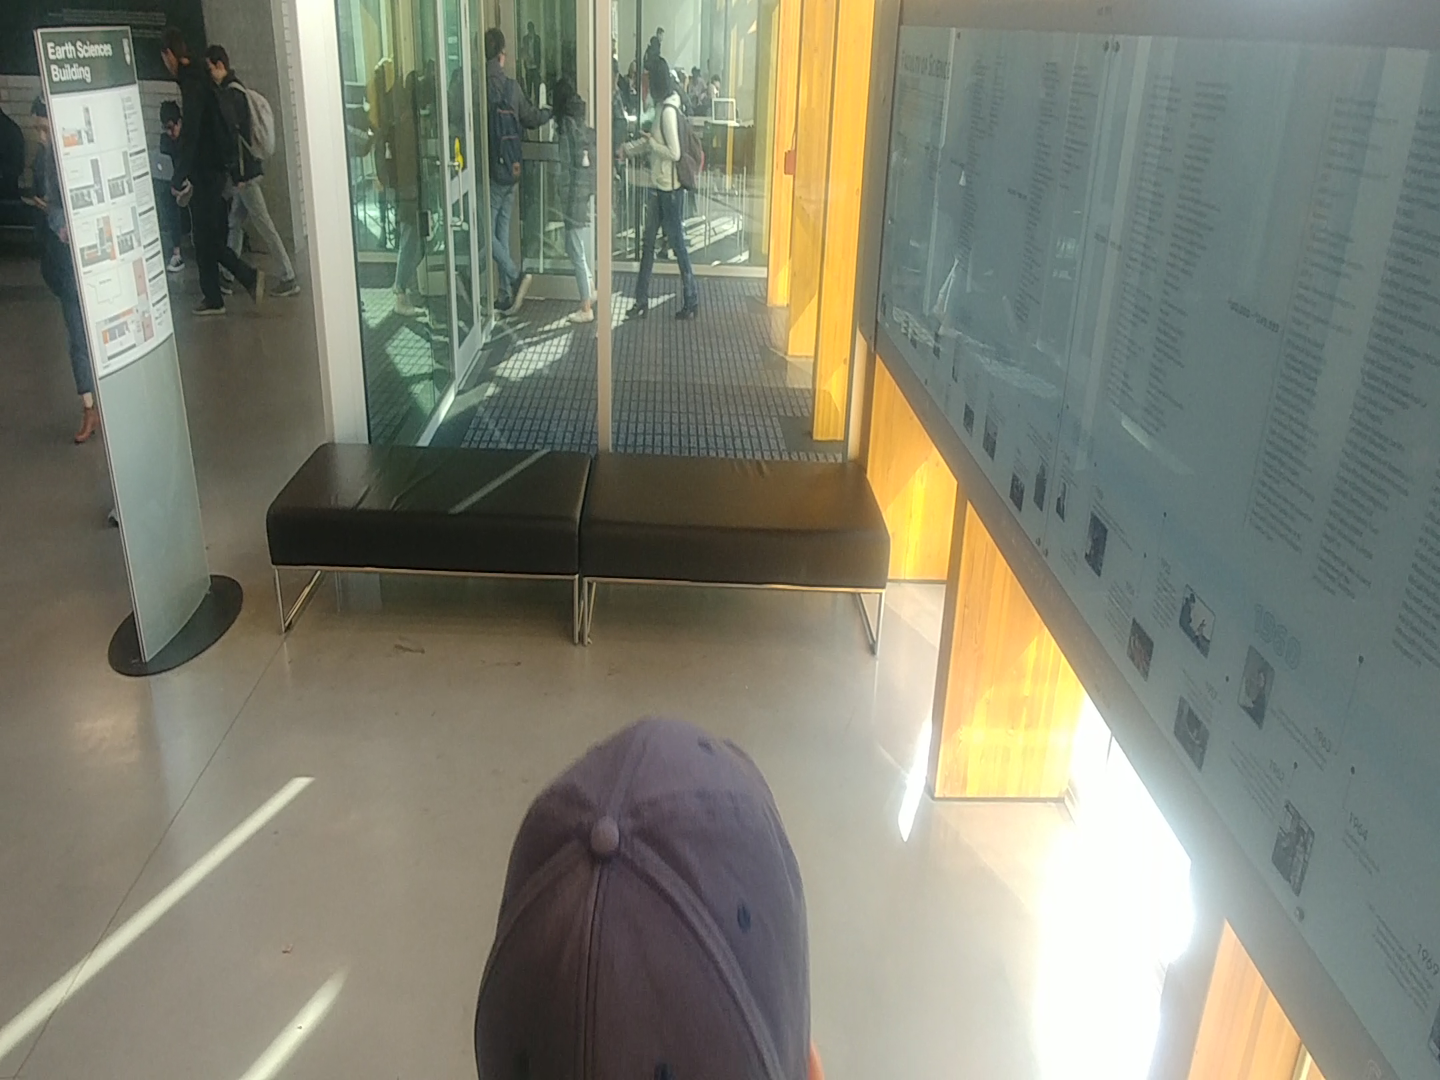face: (635, 41, 690, 113), (191, 40, 253, 94), (541, 74, 596, 130), (145, 23, 196, 84), (479, 20, 512, 74)
human: (147, 23, 270, 342), (194, 32, 306, 303), (619, 52, 713, 333), (479, 10, 550, 326), (540, 61, 600, 334)
